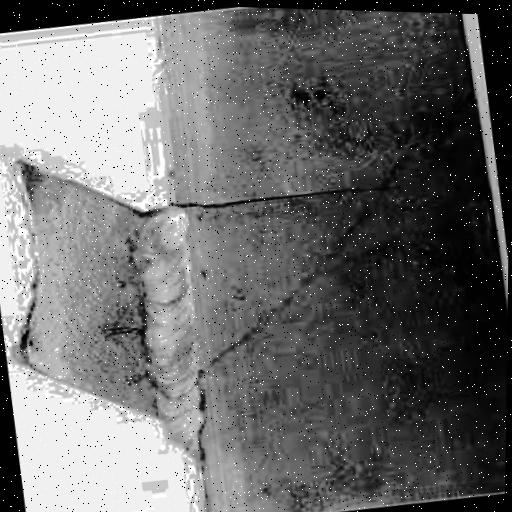crack: (166, 164, 397, 229)
